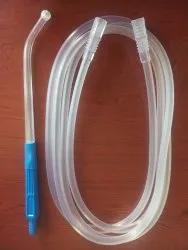Suction Tube Nozzle: (20, 9, 175, 245)
